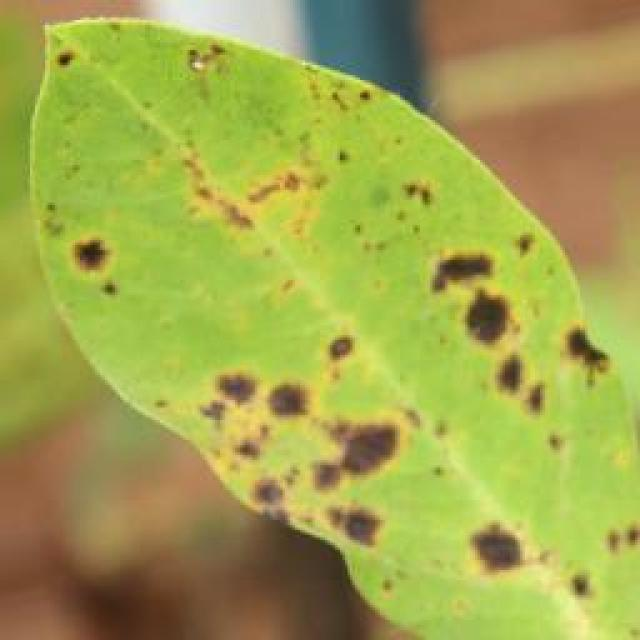Yellowish: (7, 34, 640, 607)
